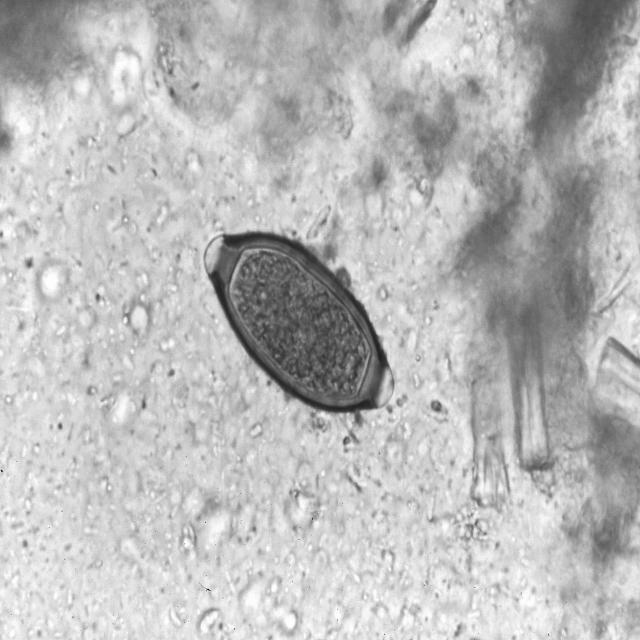Trichuris Trichiura: (190, 220, 404, 417)
